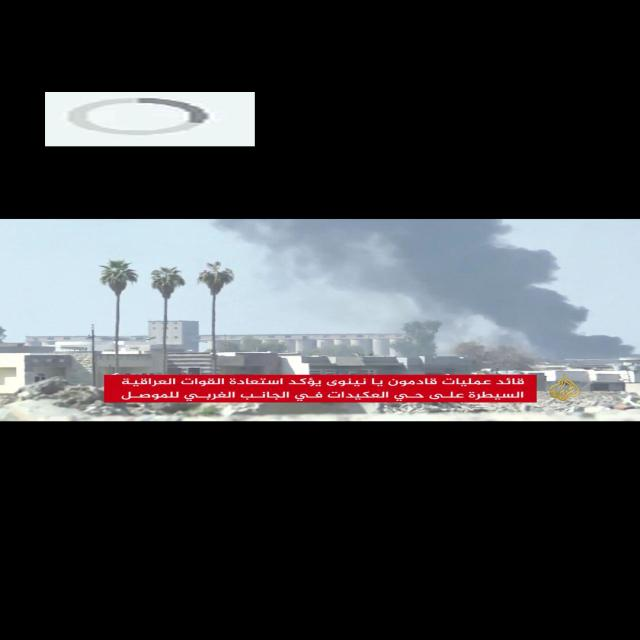misdirection: (45, 92, 255, 146)
